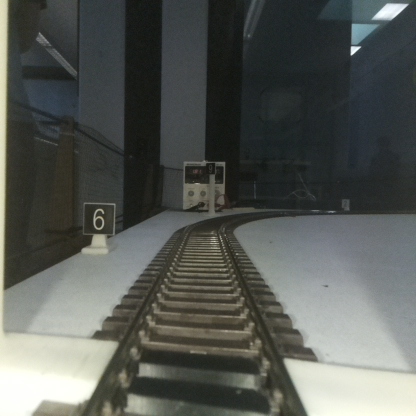black-info-9: (206, 162, 215, 215)
black-stop-6: (82, 203, 114, 254)
